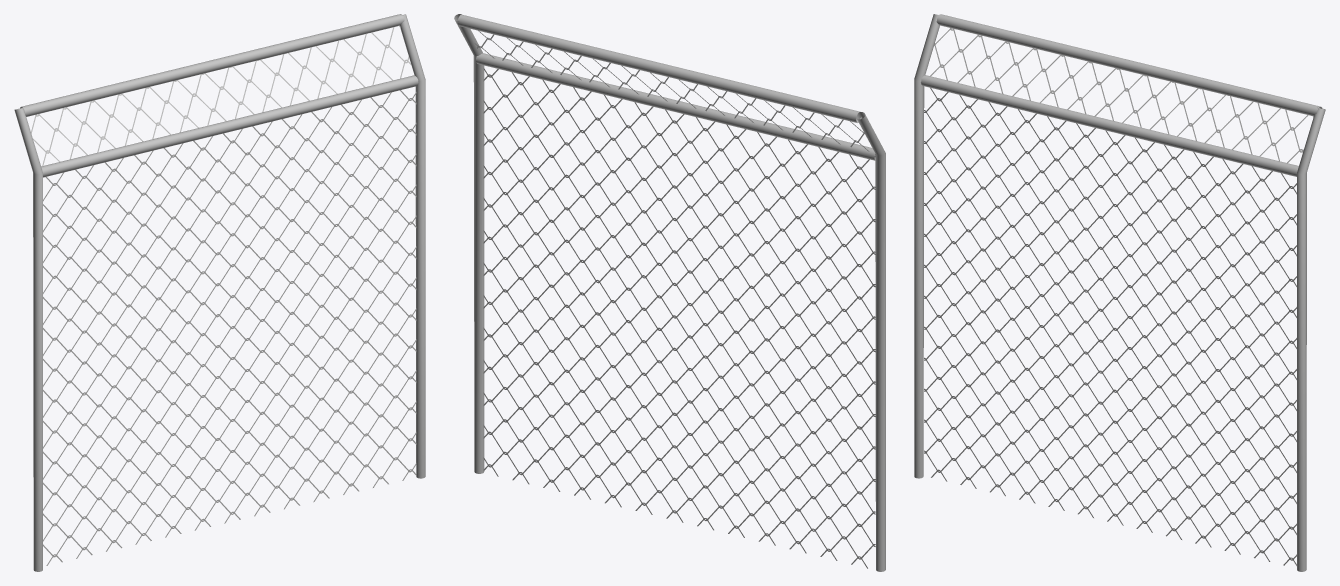
Rendered from FenceForGrave.obj.
3 views of the same model, side by side, from view 1: azimuth 30°, elevation 25°; view 2: azimuth 150°, elevation 25°; view 3: azimuth 330°, elevation 25° (orthographic). The views are drawn at different scales.
Parts seen in each view (by area): view 1: wire_fence.001; view 2: wire_fence.001; view 3: wire_fence.001.
Boxes of the visible parts, x1=… form: wire_fence.001: x1=14, y1=14, x2=425, y2=571; wire_fence.001: x1=454, y1=14, x2=885, y2=571; wire_fence.001: x1=914, y1=14, x2=1325, y2=571.
Bounding box in the file's own units: 4.58 × 5.02 × 0.4847.
